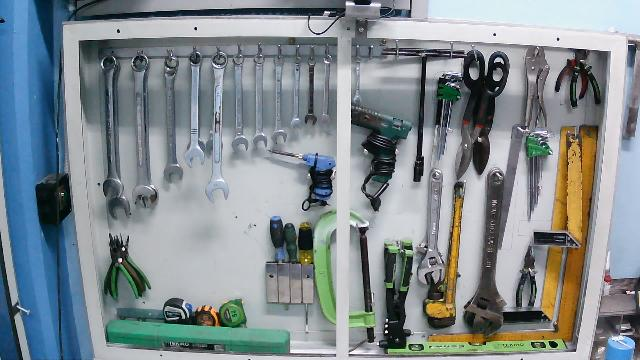gun_lem: (349, 103, 414, 213)
